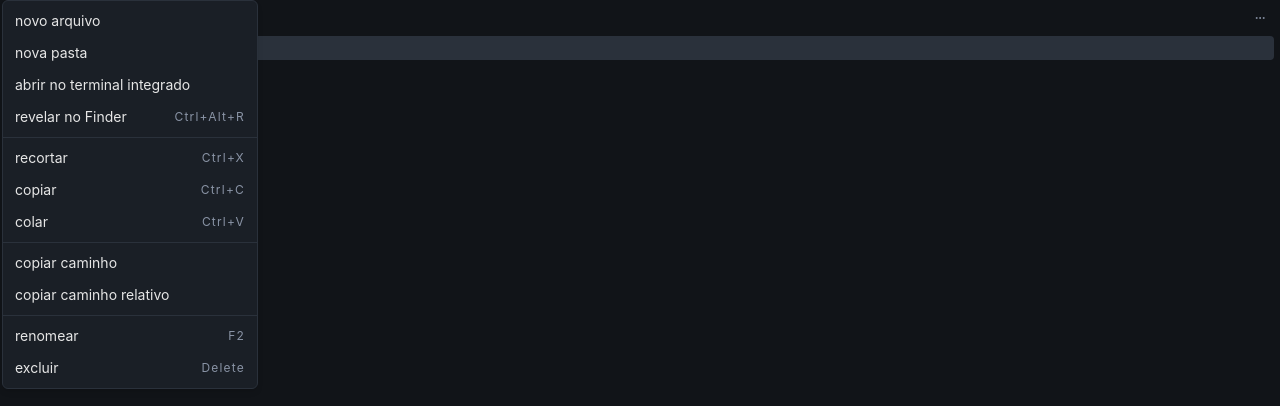
it: nova pasta from a folder's menu: the input at the top of that folder; Enter posts tree/create with the name, a / making the folders between, and opens nothing (
Step 1. Click the menu item "nova pasta" → (51, 52), box x1=15 y1=44 x2=88 y2=61
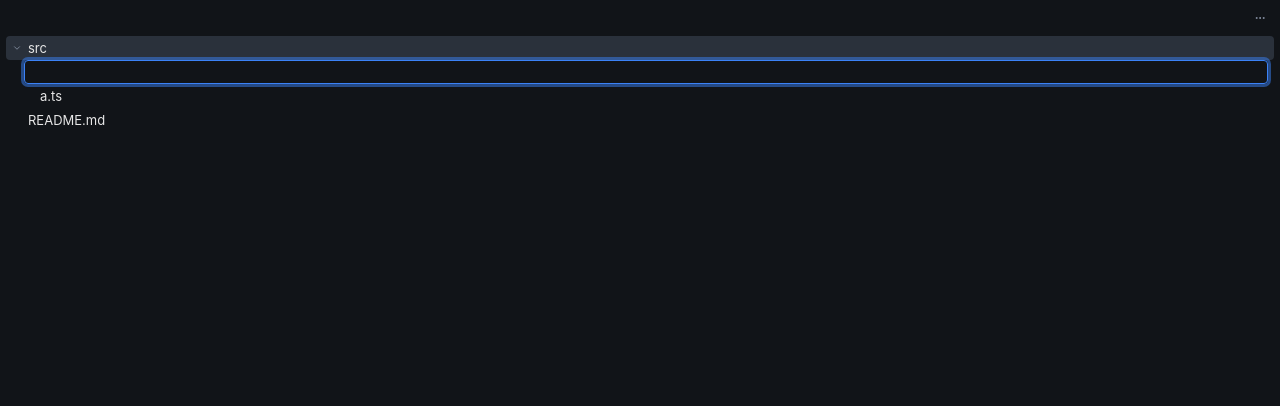
Check: the button "src" is expanded, box x1=6 y1=36 x2=1274 y2=60
Step 2. Type "lib/util" into the field named "nome" → (646, 72), box x1=24 y1=60 x2=1268 y2=84
Then press Enter
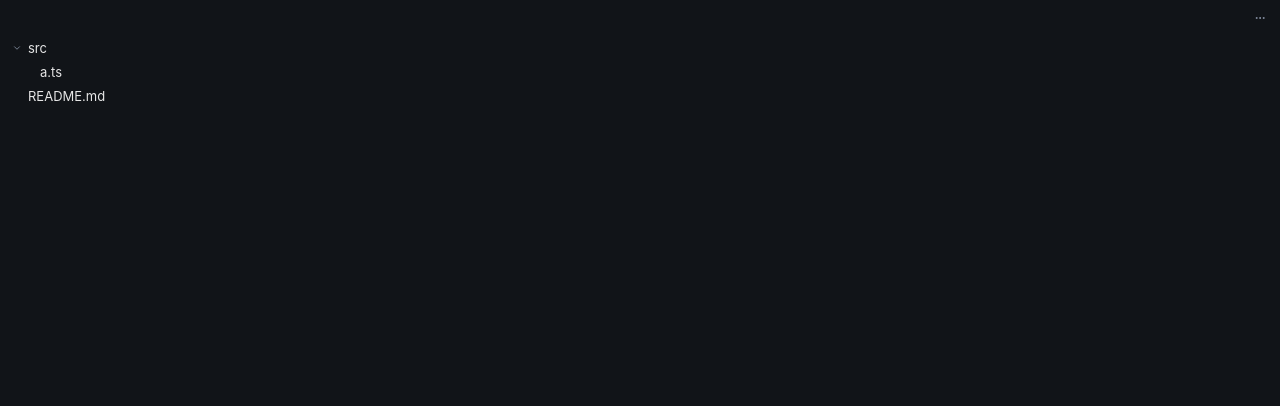
Check: the field labelled "nome" is gone
